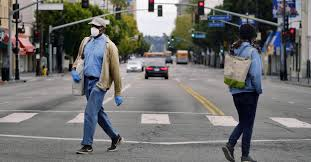mask: (87, 16, 104, 40)
